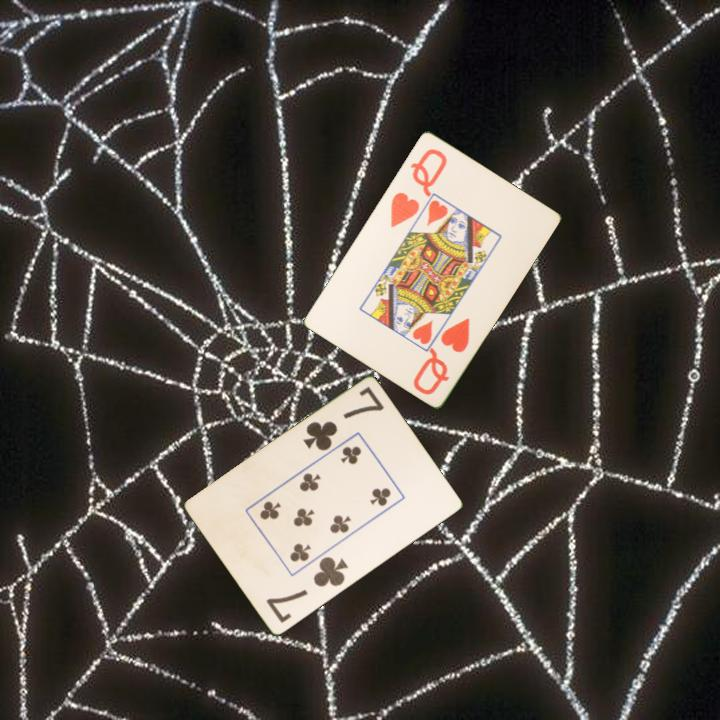7c: (262, 553, 351, 626), (299, 383, 387, 454)
Qh: (387, 144, 450, 230), (409, 314, 473, 398)
